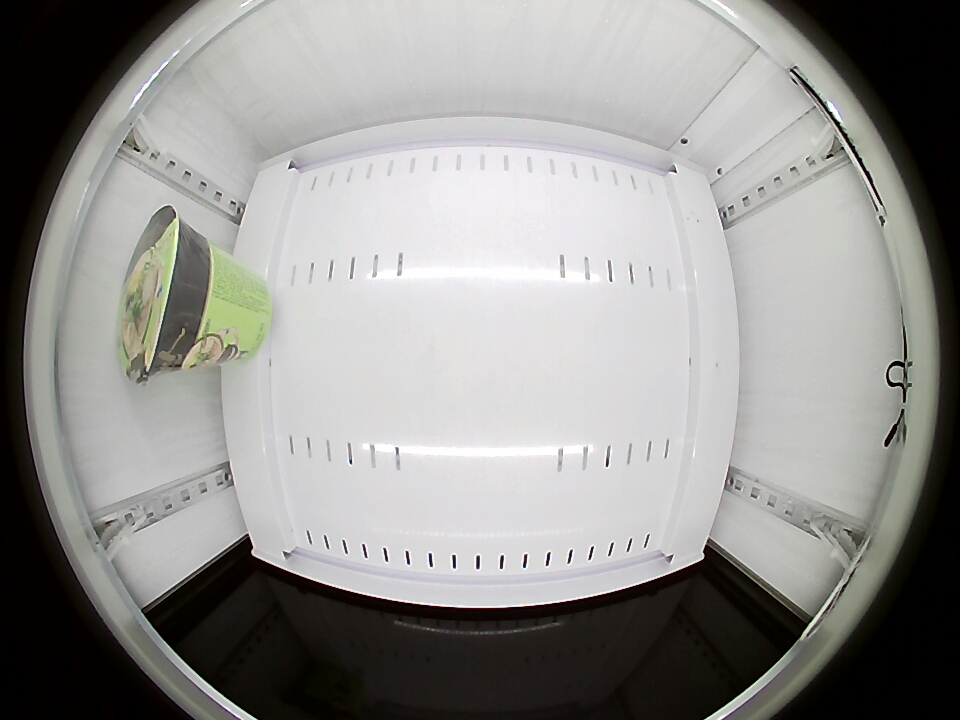tangdaren: (118, 207, 216, 384)
